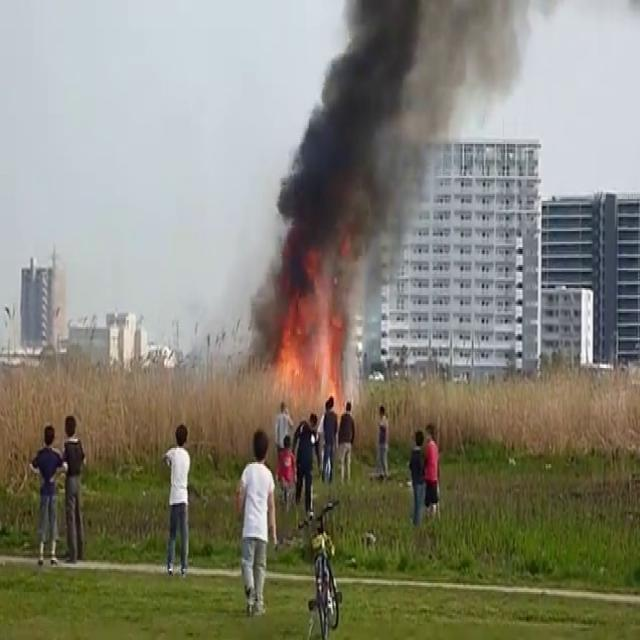Fire: (263, 319, 348, 415)
Smoke: (254, 0, 476, 343)
